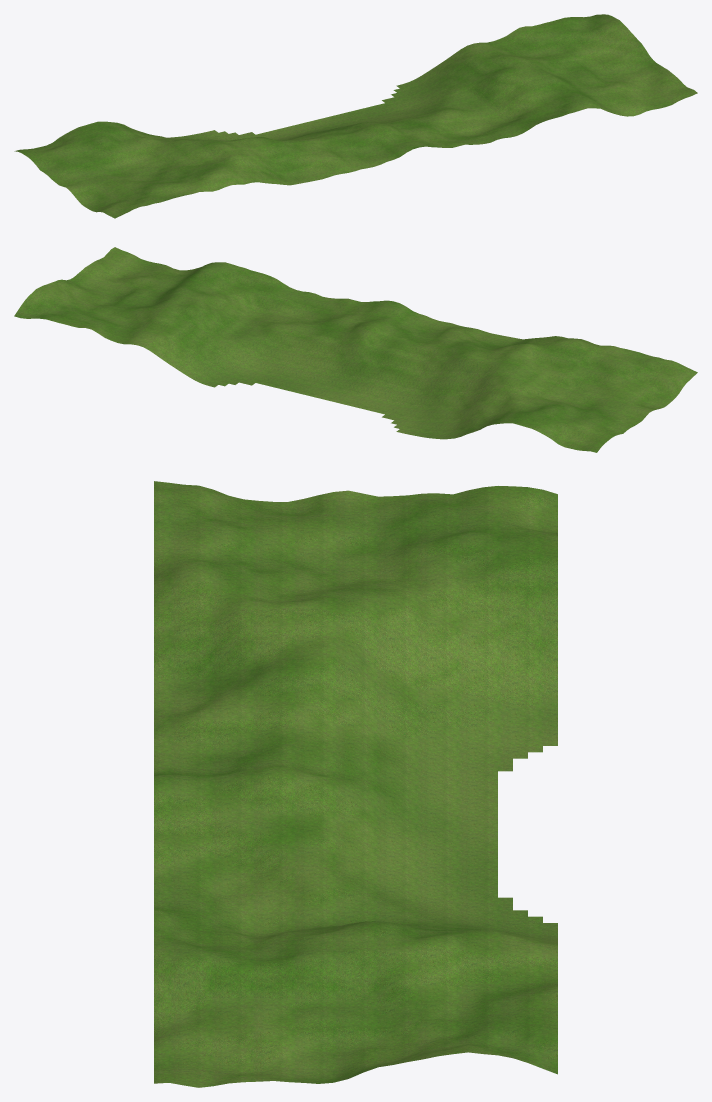
The model's file is terrain-south.glb.
The picture shows the model from 3 angles, top to bottom: view 1: azimuth 30°, elevation 25°; view 2: azimuth 150°, elevation 25°; view 3: azimuth 270°, elevation 25°; orthographic projection. The views are drawn at different scales.
Parts seen in each view (by area): view 1: terrain_south_mesh; view 2: terrain_south_mesh; view 3: terrain_south_mesh.
Boxes of the visible parts, left/top/right/bottom form: terrain_south_mesh: left=14, top=14, right=697, bottom=218; terrain_south_mesh: left=14, top=247, right=697, bottom=452; terrain_south_mesh: left=154, top=481, right=557, bottom=1087.
Bounding box in the file's own units: 360 × 26.93 × 108.
1 material, 1 textured.
